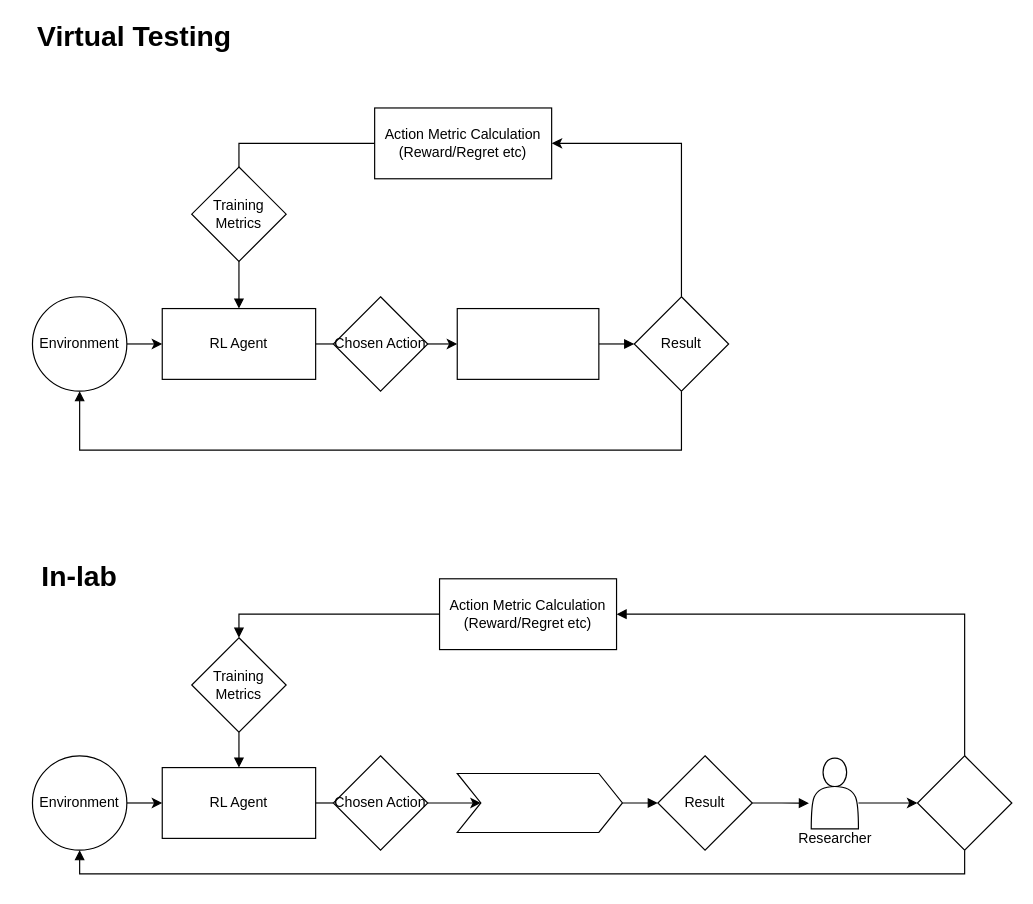
Image size: 1033x904. Some labels were removed from this diagram. Here are the shapes that lost their labels. From the top down, the centre of each, then its label:
point 527,343: Physics Model
point 539,802: Robot Pipetting
point 964,802: Lab Measurement
